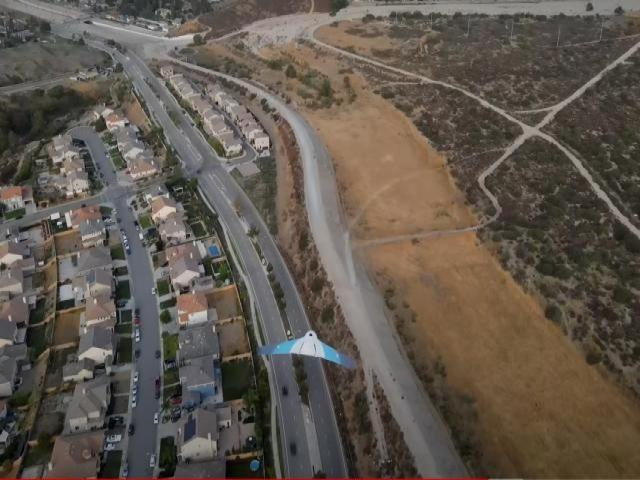iha: (260, 330, 352, 370)
